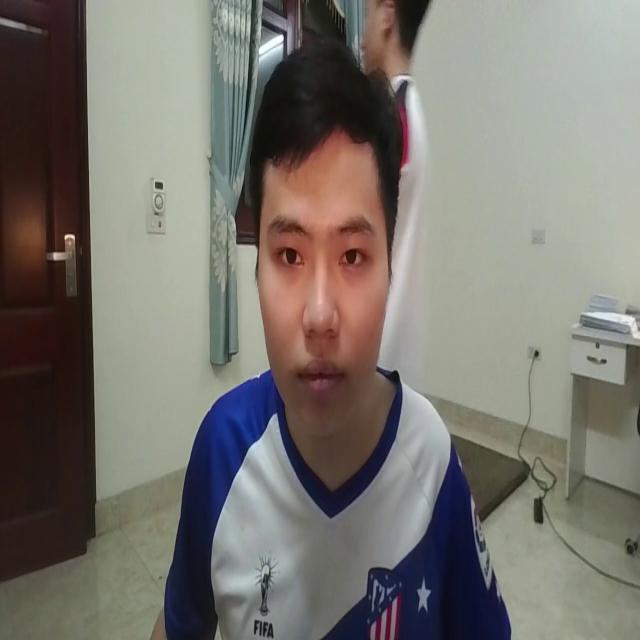extra_person: (344, 0, 436, 389)
student: (150, 37, 512, 640)
